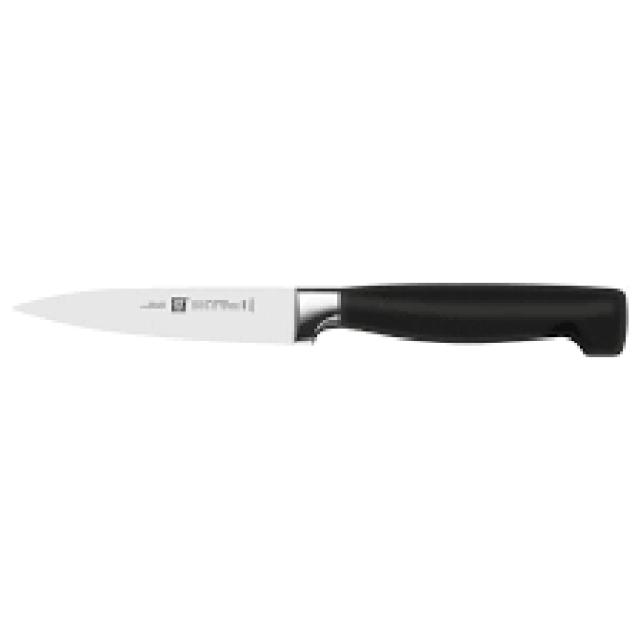knife: (11, 265, 635, 380)
